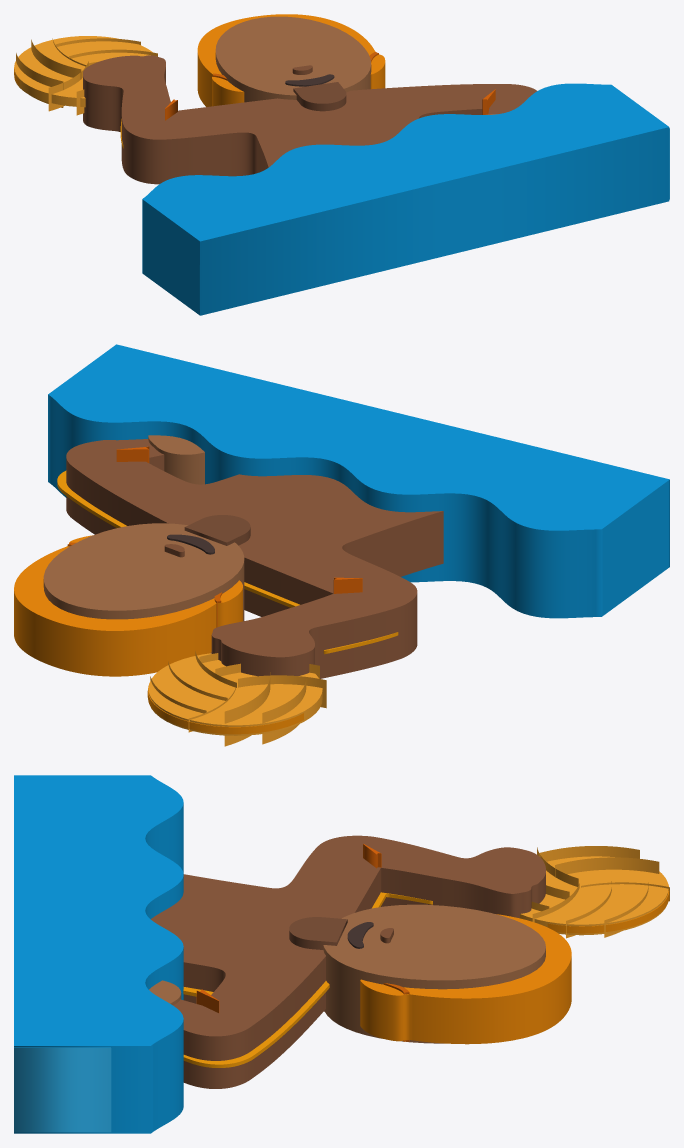
The model's file is emoji_u1f93d_1f3fe.glb.
3 views of the same model, one above another, from view 1: azimuth 30°, elevation 25°; view 2: azimuth 150°, elevation 25°; view 3: azimuth 270°, elevation 25° (orthographic). The views are drawn at different scales.
Visible parts, largest first — view 1: emoji_u1f93d_1f3fe; view 2: emoji_u1f93d_1f3fe; view 3: emoji_u1f93d_1f3fe.
Boxes of the visible parts, left/top/right/bottom form: emoji_u1f93d_1f3fe: left=14, top=14, right=669, bottom=315; emoji_u1f93d_1f3fe: left=14, top=344, right=669, bottom=746; emoji_u1f93d_1f3fe: left=14, top=775, right=669, bottom=1133.
Bounding box in the file's own units: 0.0331 × 0.005 × 0.0339.
